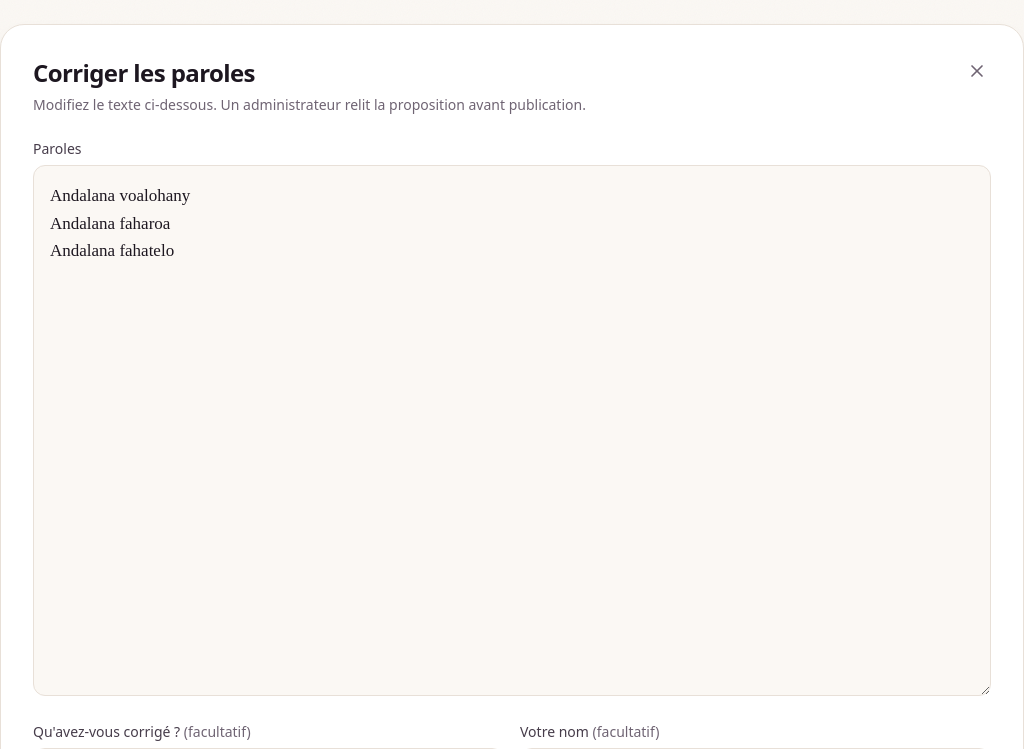
Test: formulaire public de correction › n'autorise l'envoi qu'après une vraie modification
This screenshot has width=1024, height=749.
Type " voaova" into the text box labelled "Paroles" at x=512, y=431, box top-left (33, 165), bottom-right (991, 696)
(page scrolled)
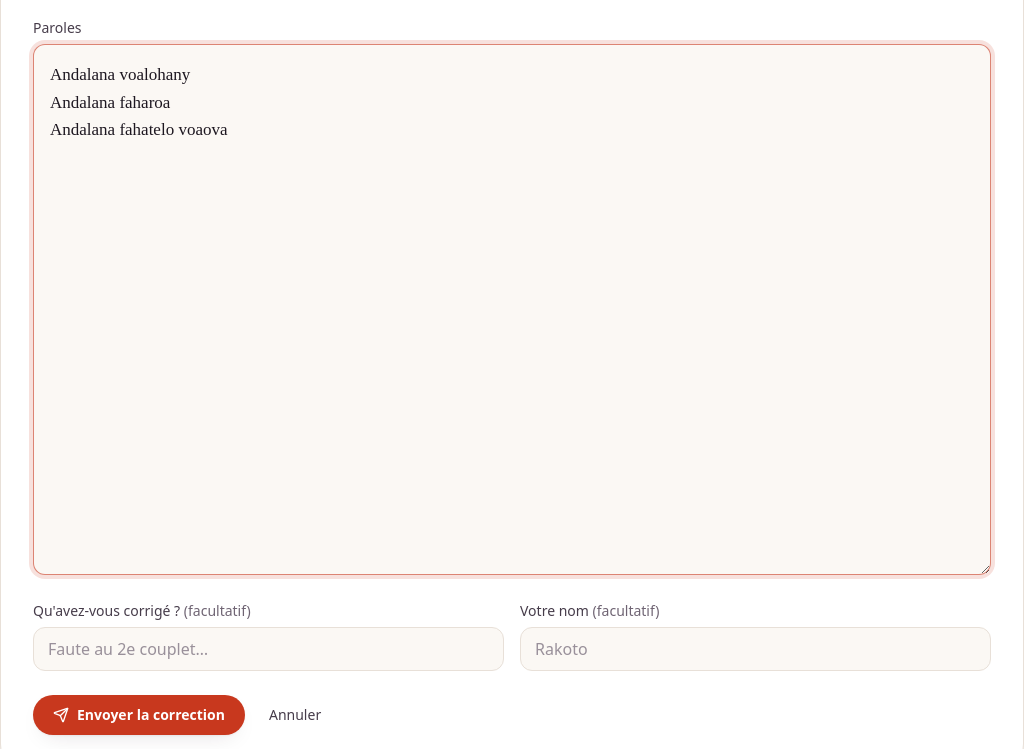
expect the button "Envoyer la correction" is enabled: met, box top-left (33, 695), bottom-right (245, 735)
